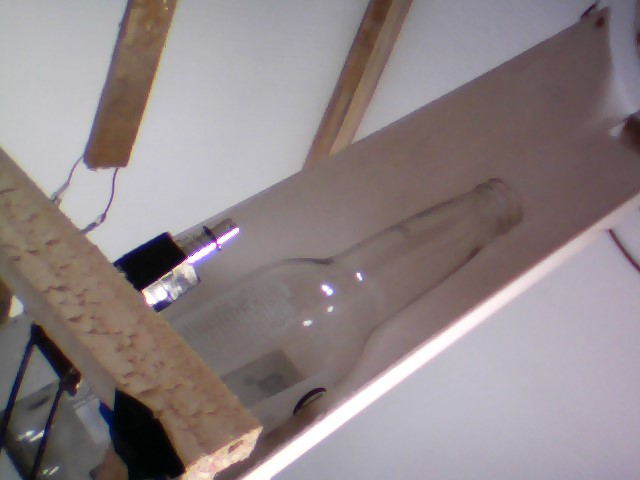vidrio: (175, 172, 533, 432)
